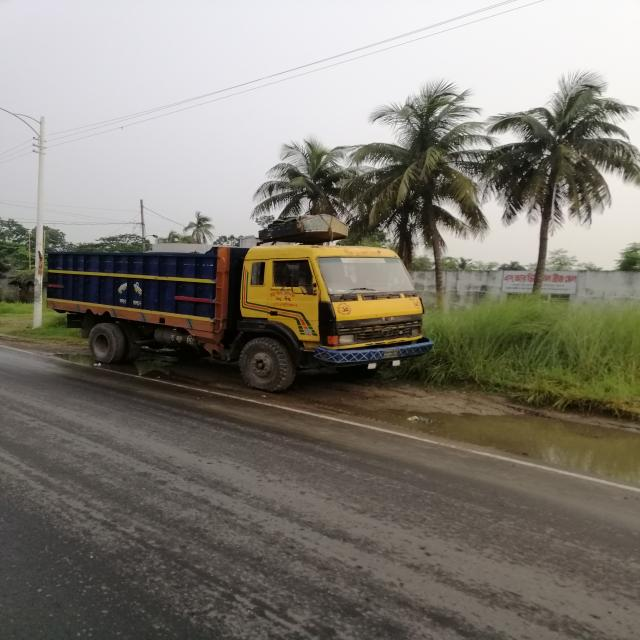Truck: (35, 211, 441, 396)
